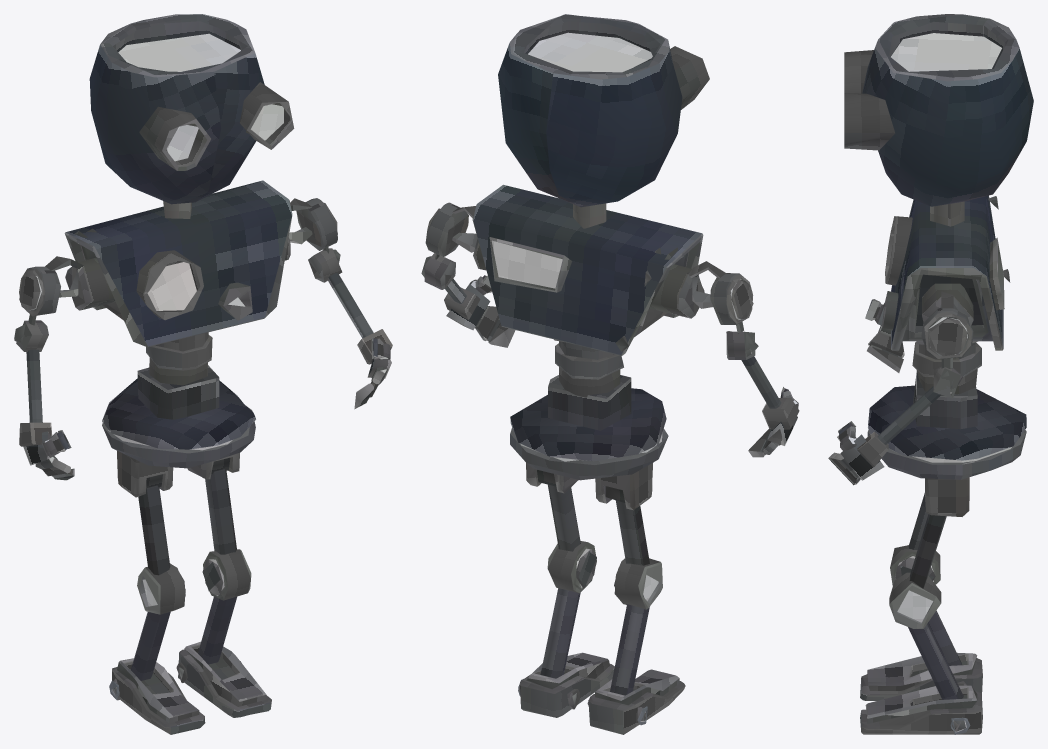
Rendered from npc-mini-bot-lod.glb.
3 views of the same model, side by side, from view 1: azimuth 30°, elevation 25°; view 2: azimuth 150°, elevation 25°; view 3: azimuth 270°, elevation 25° (orthographic). The views are drawn at different scales.
Visible parts, largest first — view 1: Object_16_baked; view 2: Object_16_baked; view 3: Object_16_baked.
Part boxes in pixels (box(x1,y1,x2,y2)): Object_16_baked: box(14, 14, 392, 734); Object_16_baked: box(421, 14, 799, 734); Object_16_baked: box(828, 14, 1033, 734).
Size of the model in its own units: 1.68 by 2.95 by 0.8293.
1 material, 1 textured.
